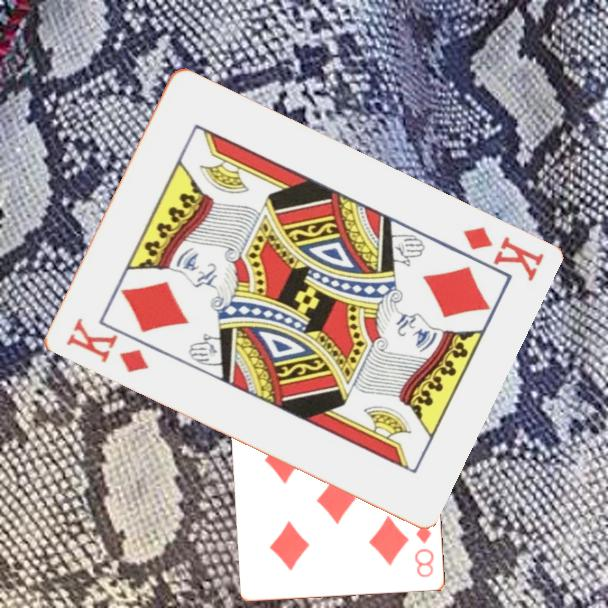d08: (411, 521, 437, 580)
d13: (62, 314, 151, 376), (458, 223, 547, 285)
